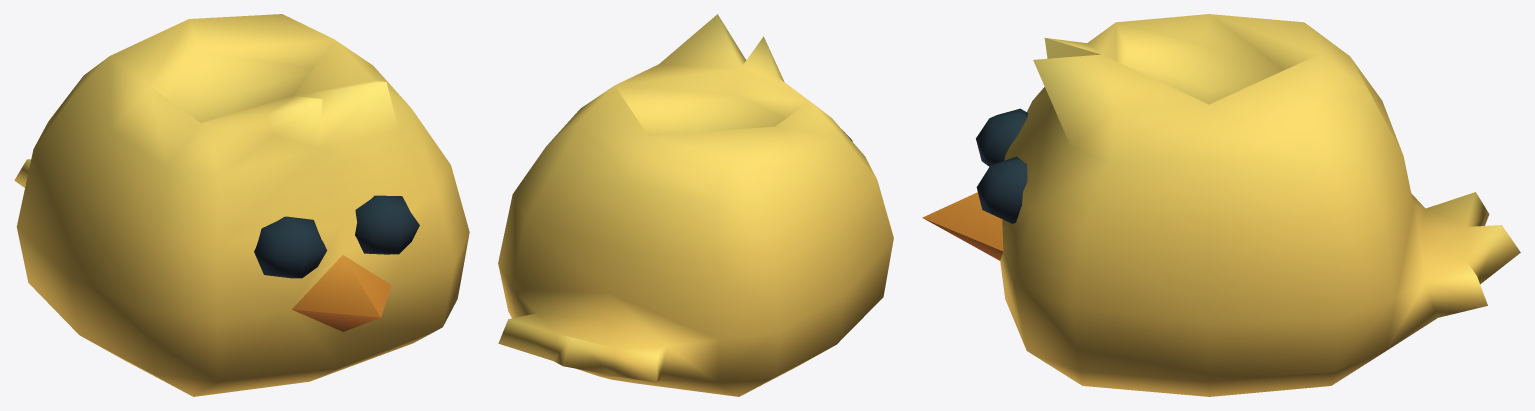
The model's file is Big_Bird_Boat.glb.
3 views of the same model, side by side, from view 1: azimuth 30°, elevation 25°; view 2: azimuth 150°, elevation 25°; view 3: azimuth 270°, elevation 25° (orthographic). The views are drawn at different scales.
Visible parts, largest first — view 1: chick; view 2: chick; view 3: chick.
Part boxes in pixels (x1,y1,x2,y2): chick: (14, 14, 469, 396); chick: (498, 14, 893, 396); chick: (922, 14, 1520, 396).
Size of what is drawn, in the model's own units: 8.41 by 7.12 by 12.22.
1 material, 1 textured.
